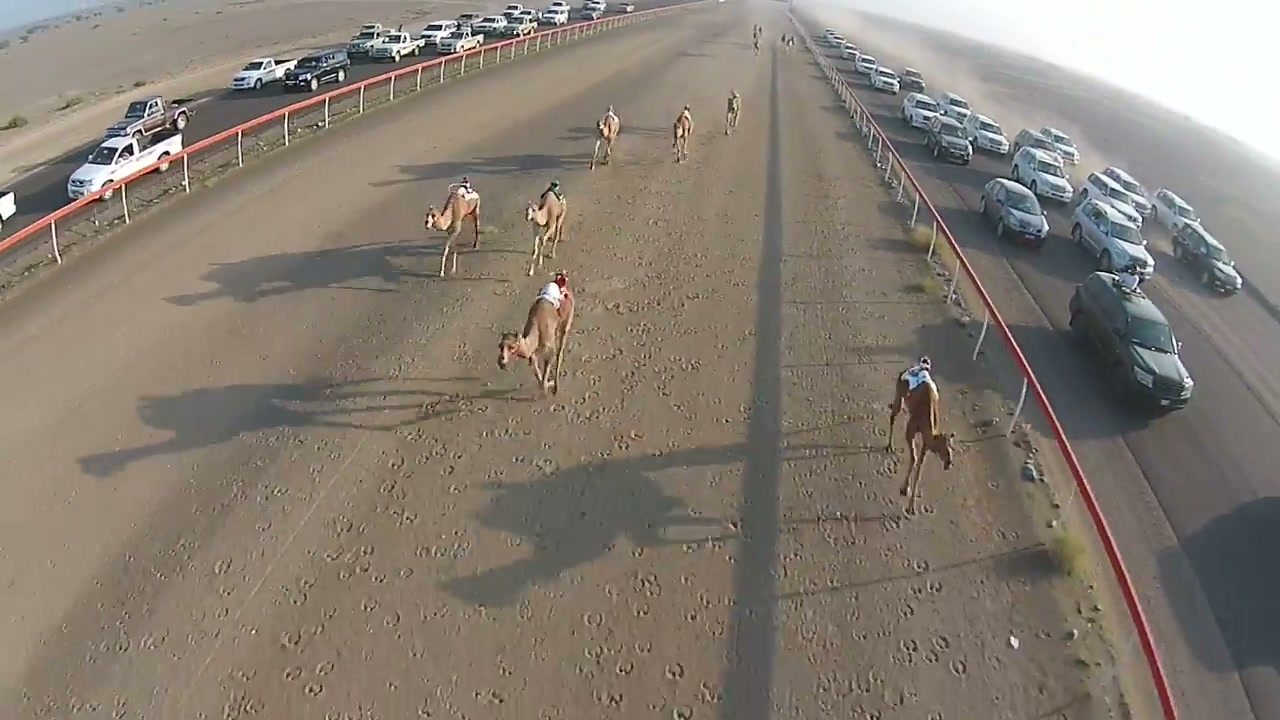animal_footprint: (122, 280, 486, 706), (566, 391, 973, 717)
